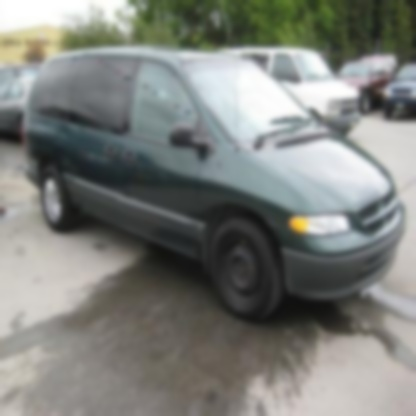Vehicle: (24, 48, 405, 317)
